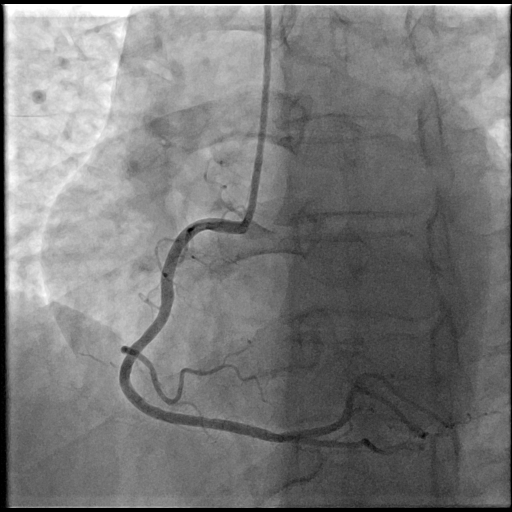RCA: (119, 218, 356, 446)
catherter: (236, 6, 272, 233)
